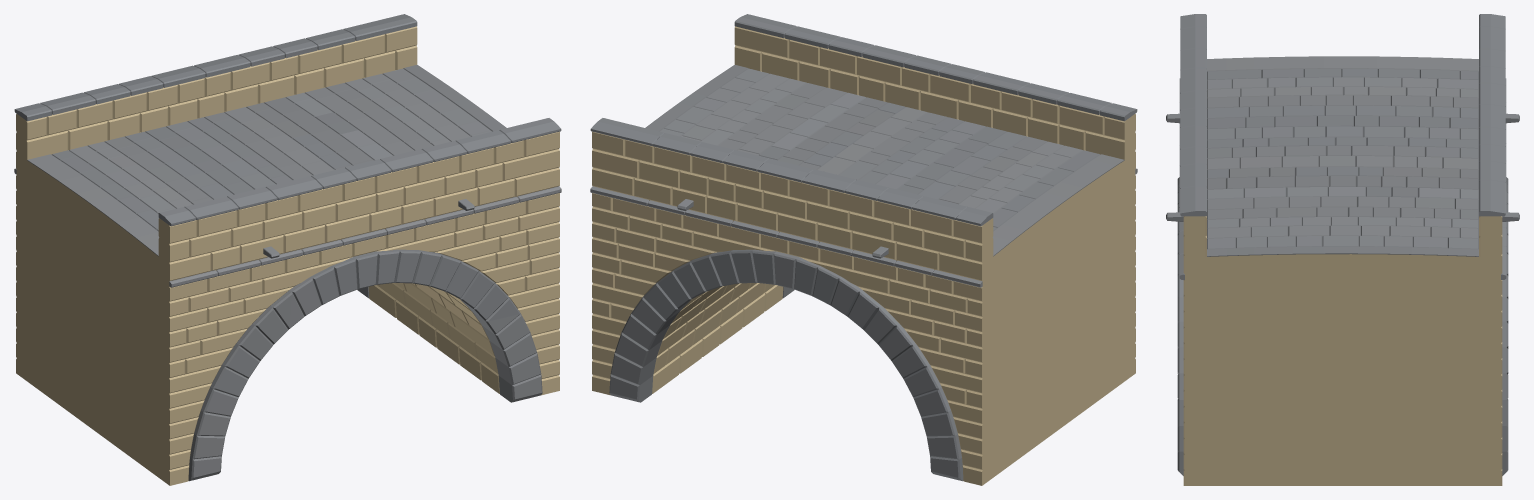
The picture shows the model from 3 angles, left to right: view 1: azimuth 30°, elevation 25°; view 2: azimuth 150°, elevation 25°; view 3: azimuth 270°, elevation 25°; orthographic projection. The views are drawn at different scales.
Visible parts, largest first — view 1: Mesh_BayLimestone, Mesh_BayGranite; view 2: Mesh_BayLimestone, Mesh_BayGranite; view 3: Mesh_BayLimestone, Mesh_BayGranite.
Part boxes in pixels (x1=…): Mesh_BayLimestone: x1=16, y1=26, x2=559, y2=485; Mesh_BayGranite: x1=14, y1=14, x2=561, y2=481; Mesh_BayLimestone: x1=592, y1=26, x2=1135, y2=485; Mesh_BayGranite: x1=590, y1=14, x2=1137, y2=481; Mesh_BayLimestone: x1=1183, y1=216, x2=1502, y2=485; Mesh_BayGranite: x1=1166, y1=14, x2=1519, y2=475.
Bounding box in the file's own units: 12 × 7.8 × 9.1.
